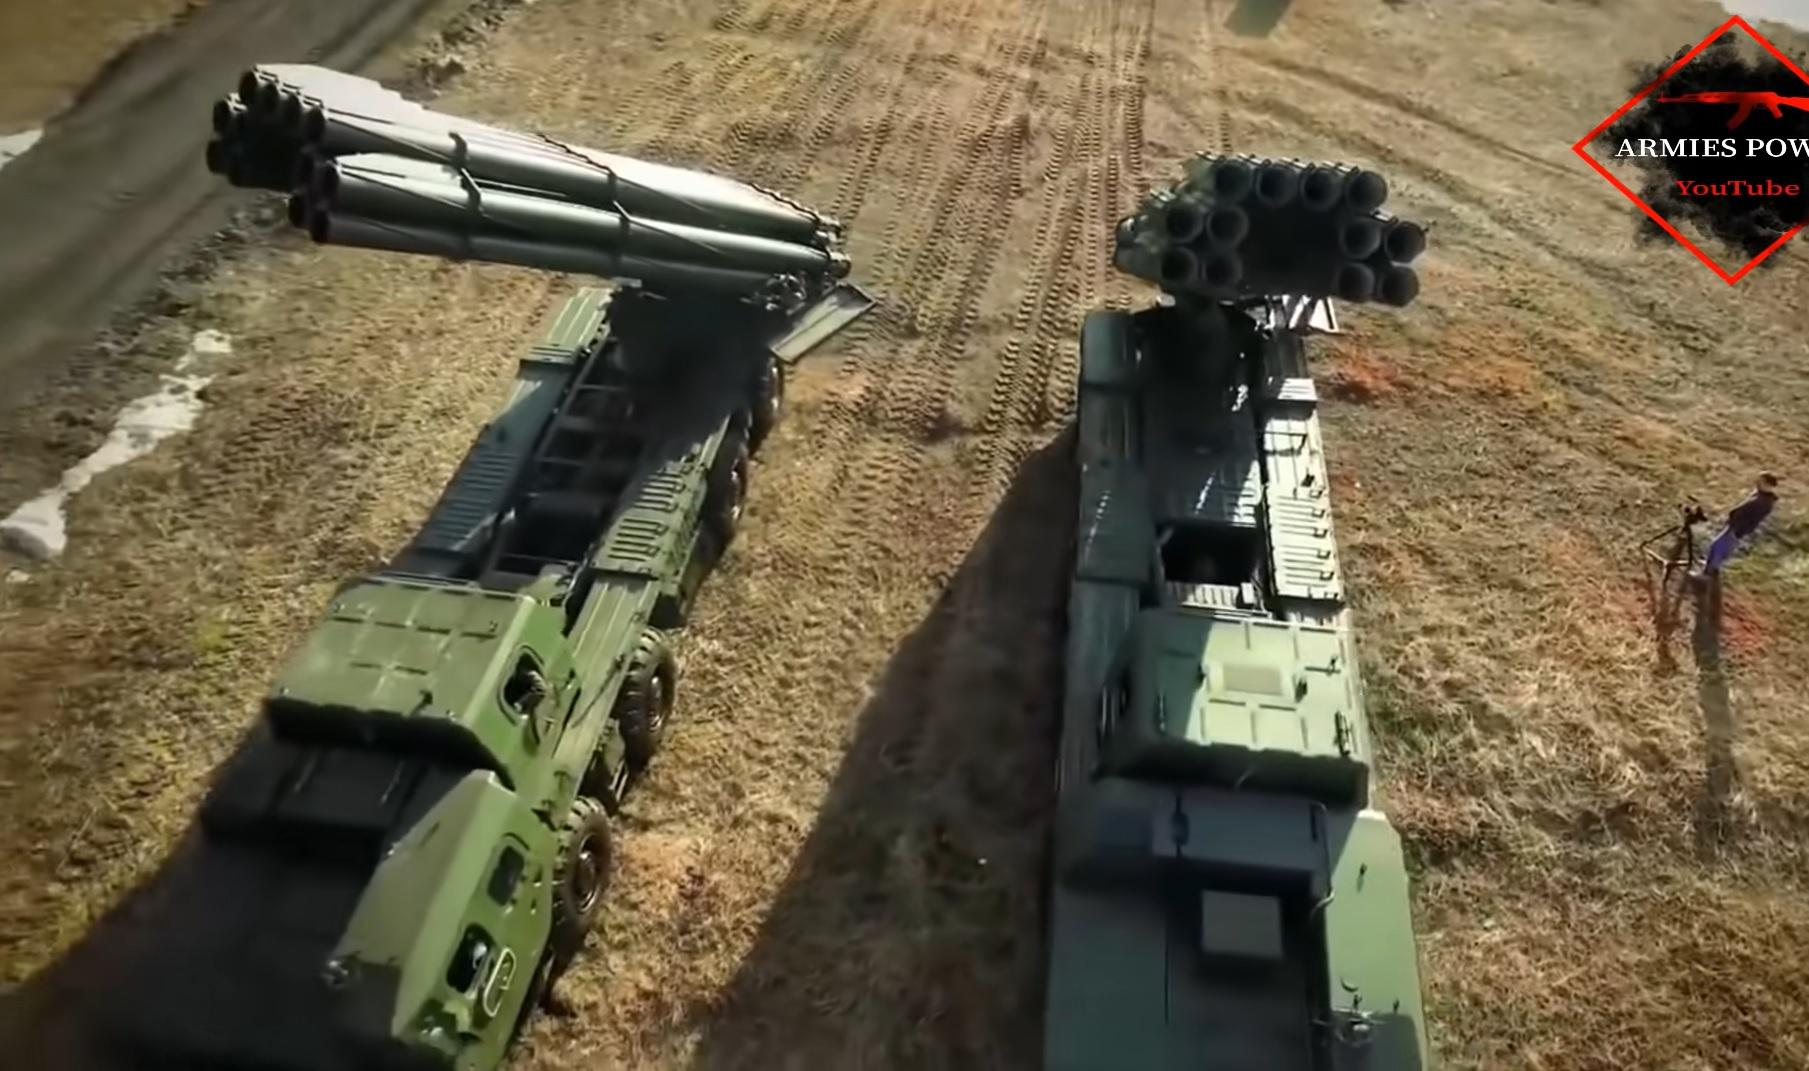MIL_SAM_TEL: (167, 46, 858, 1071), (1021, 140, 1452, 1071)
